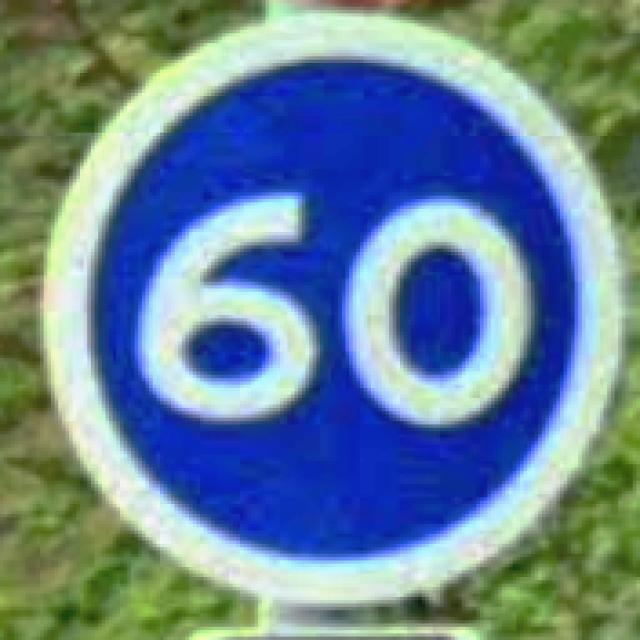min60: (33, 6, 629, 606)
